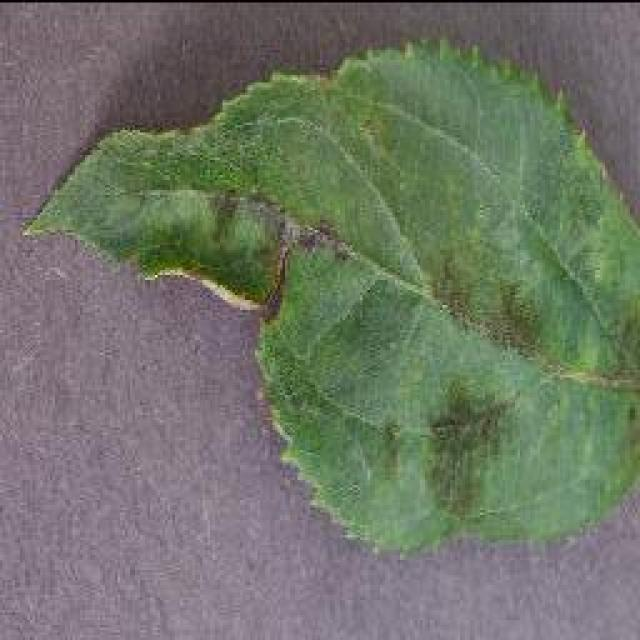apple scab disease: (20, 35, 638, 557)
